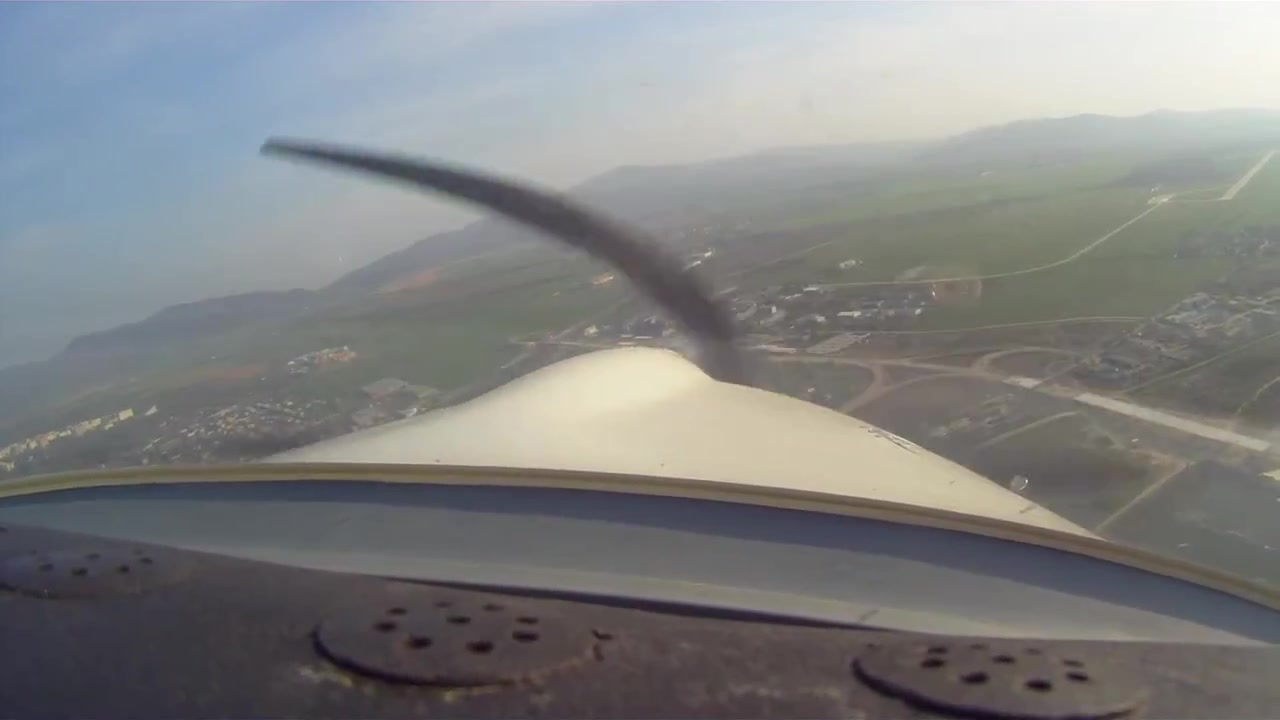runway: (1214, 150, 1280, 200)
